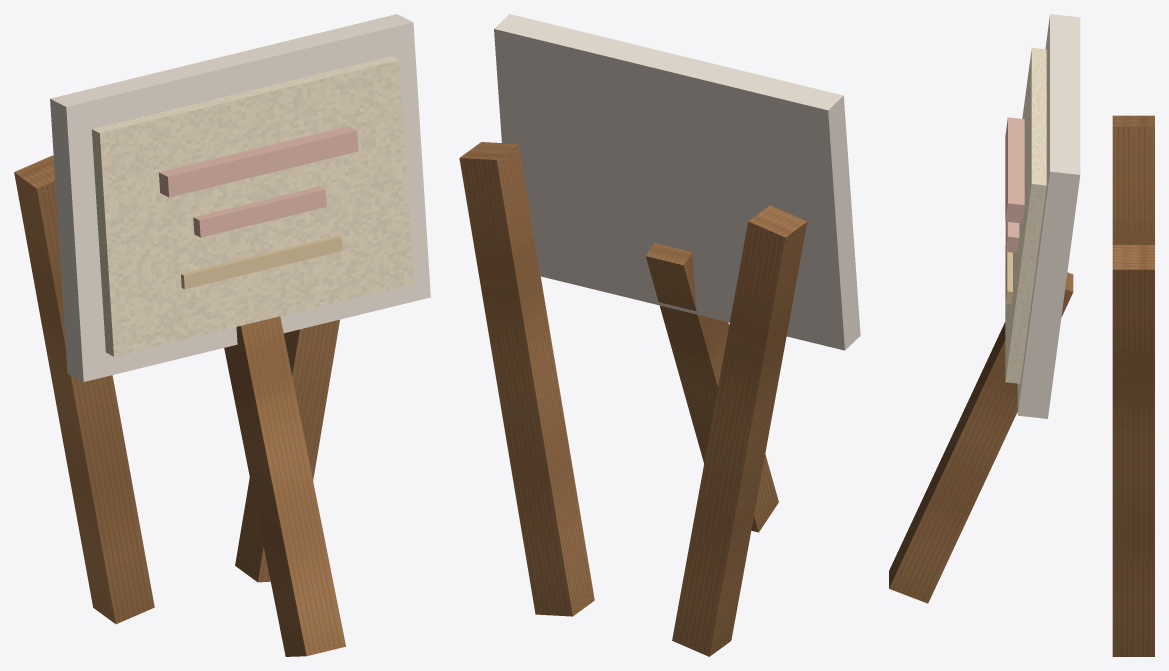
File: countdown_stand.glb
3 views of the same model, side by side, from view 1: azimuth 30°, elevation 25°; view 2: azimuth 150°, elevation 25°; view 3: azimuth 270°, elevation 25° (orthographic). The views are drawn at different scales.
Visible parts, largest first — view 1: countdown_stand; view 2: countdown_stand; view 3: countdown_stand.
Part boxes in pixels (<box>): countdown_stand: <box>14,14,430,656</box>; countdown_stand: <box>459,14,860,656</box>; countdown_stand: <box>889,14,1154,656</box>.
Size of the model in its own units: 0.22 by 0.3405 by 0.1568.
Materials: 5 (2 with a texture image).
